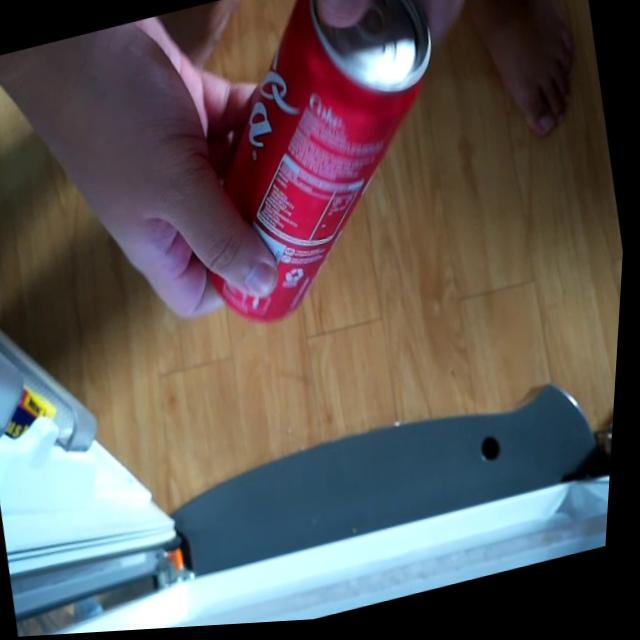coke: (145, 0, 490, 349)
